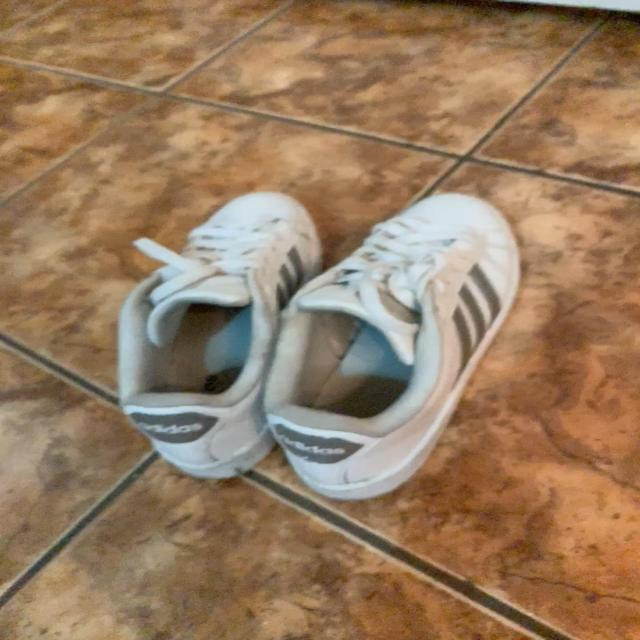shoe: (262, 192, 522, 503), (117, 195, 316, 483)
